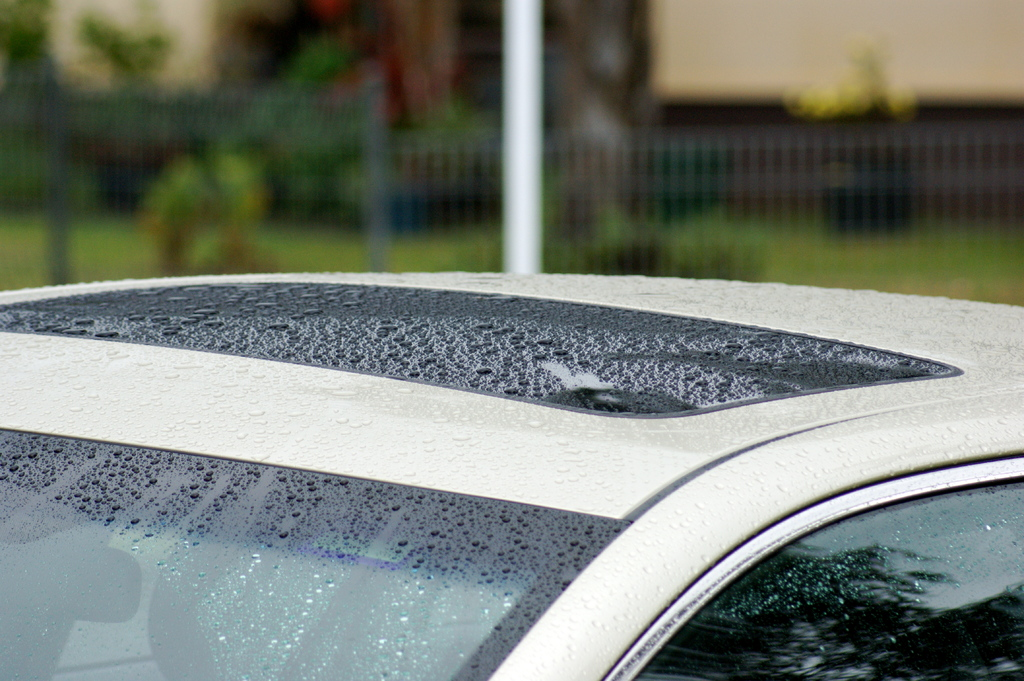Car: (0, 270, 1023, 680)
